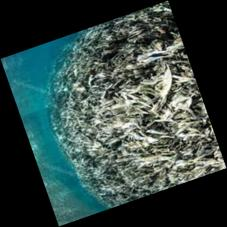bleached_corals: (27, 2, 226, 218)
